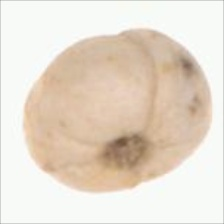L4: (24, 29, 212, 193)
